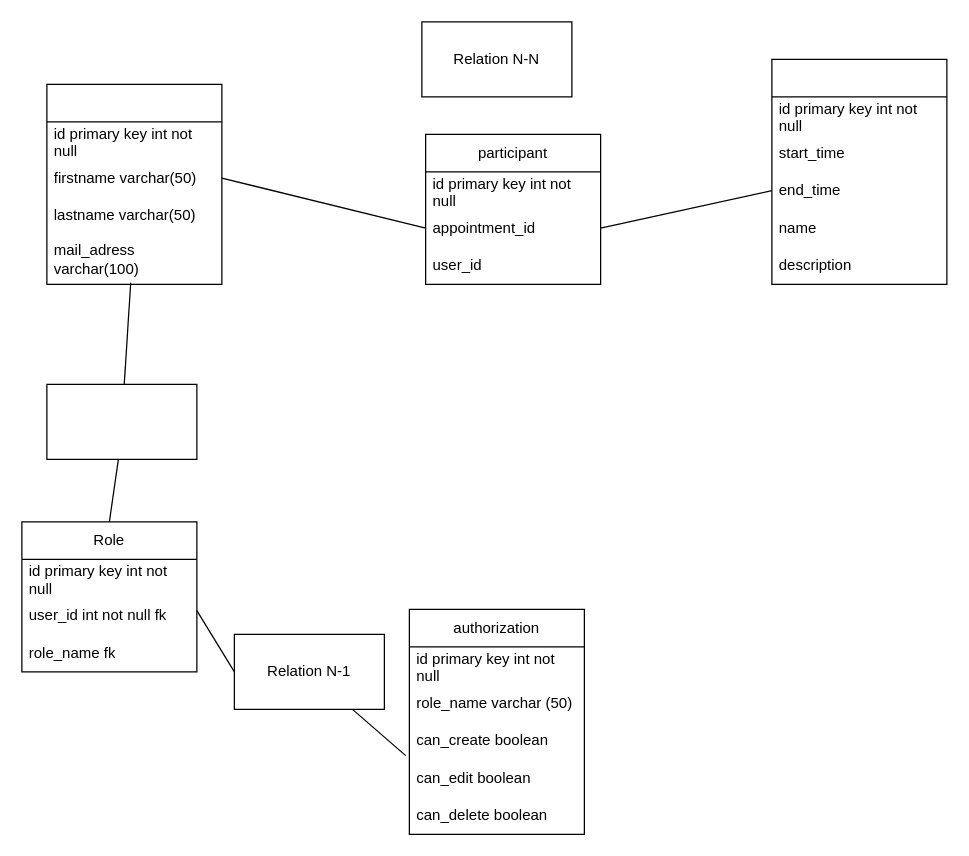
Some shapes in this 969 by 856 pixel diagram are drawn without their labels. Each missing label, with the box of its shape:
appointment: (771, 58, 947, 284)
Relation 1-N: (46, 383, 197, 459)
user: (46, 83, 222, 284)
